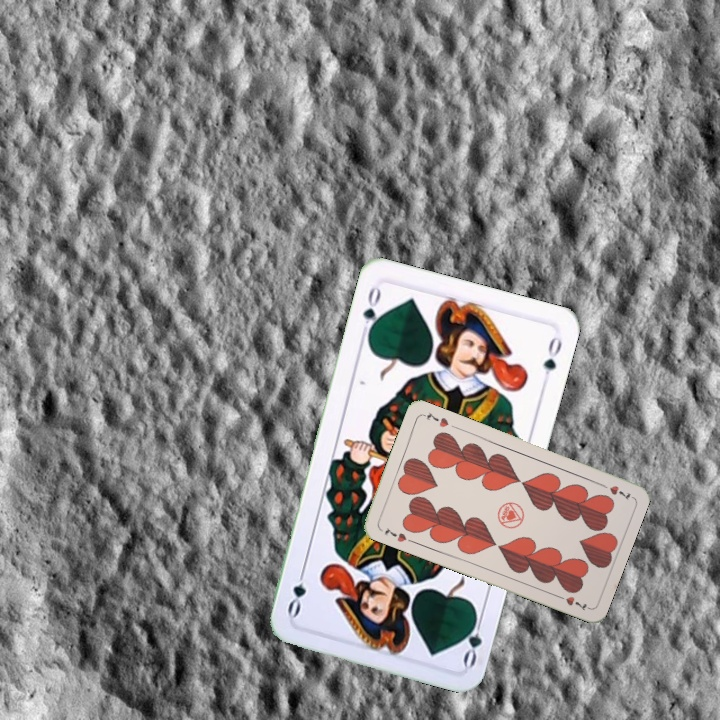GO: (459, 609, 486, 669), (358, 282, 384, 341)
H7: (596, 479, 635, 503), (380, 523, 409, 545)
